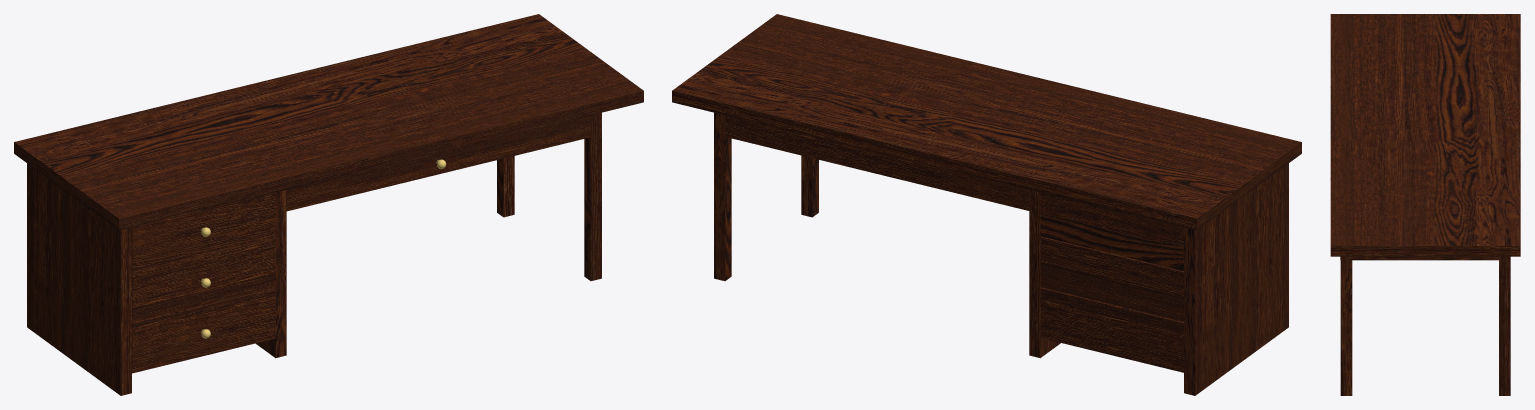
File: TableDraftShapekeys.fbx
3 views of the same model, side by side, from view 1: azimuth 30°, elevation 25°; view 2: azimuth 150°, elevation 25°; view 3: azimuth 270°, elevation 25° (orthographic). The views are drawn at different scales.
Parts seen in each view (by area): view 1: TableShapekeys; view 2: TableShapekeys; view 3: TableShapekeys.
Boxes of the visible parts, x1,y1,x2,y2 form: TableShapekeys: (14, 14, 643, 395); TableShapekeys: (672, 14, 1301, 395); TableShapekeys: (1330, 14, 1520, 395).
Bounding box in the file's own units: 300 × 100 × 104.
2 materials, 1 textured.
